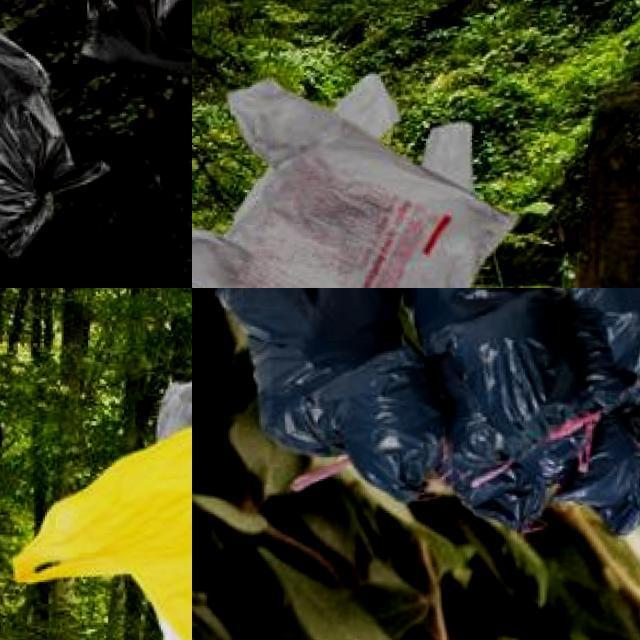waste: (192, 74, 521, 288), (192, 85, 482, 288), (9, 351, 192, 640), (426, 288, 583, 467), (0, 7, 107, 268), (211, 288, 394, 437), (320, 352, 446, 498), (550, 412, 640, 538), (93, 0, 192, 92), (572, 288, 640, 402)
